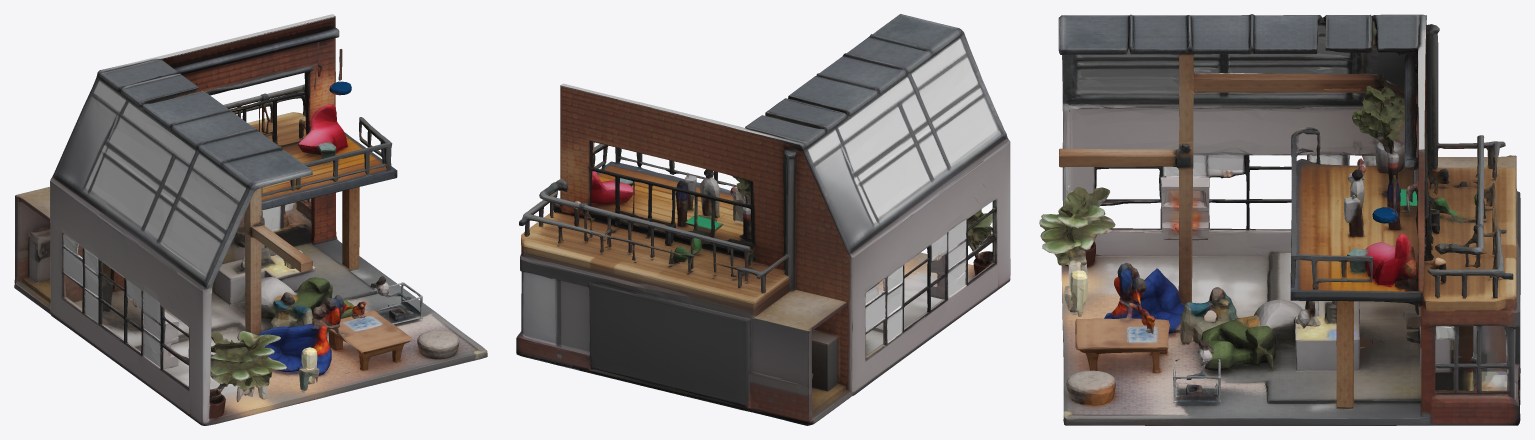
3 renders of one model, left to right at view 1: azimuth 30°, elevation 25°; view 2: azimuth 150°, elevation 25°; view 3: azimuth 270°, elevation 25°, orthographic. The views are drawn at different scales.
Parts seen in each view (by area): view 1: world; view 2: world; view 3: world.
Part boxes in pixels (x1,y1,x2,y2): world: (14, 14, 487, 425); world: (516, 14, 1010, 425); world: (1039, 14, 1520, 425).
Size of the model in its own units: 0.8289 by 0.6369 by 1.
Materials: 1 (1 with a texture image).
